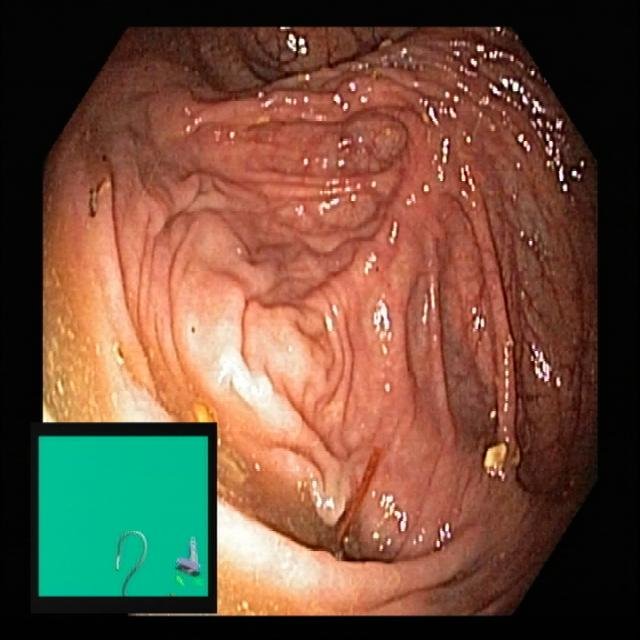normal-cecum: (42, 177, 386, 621), (467, 417, 531, 510)
